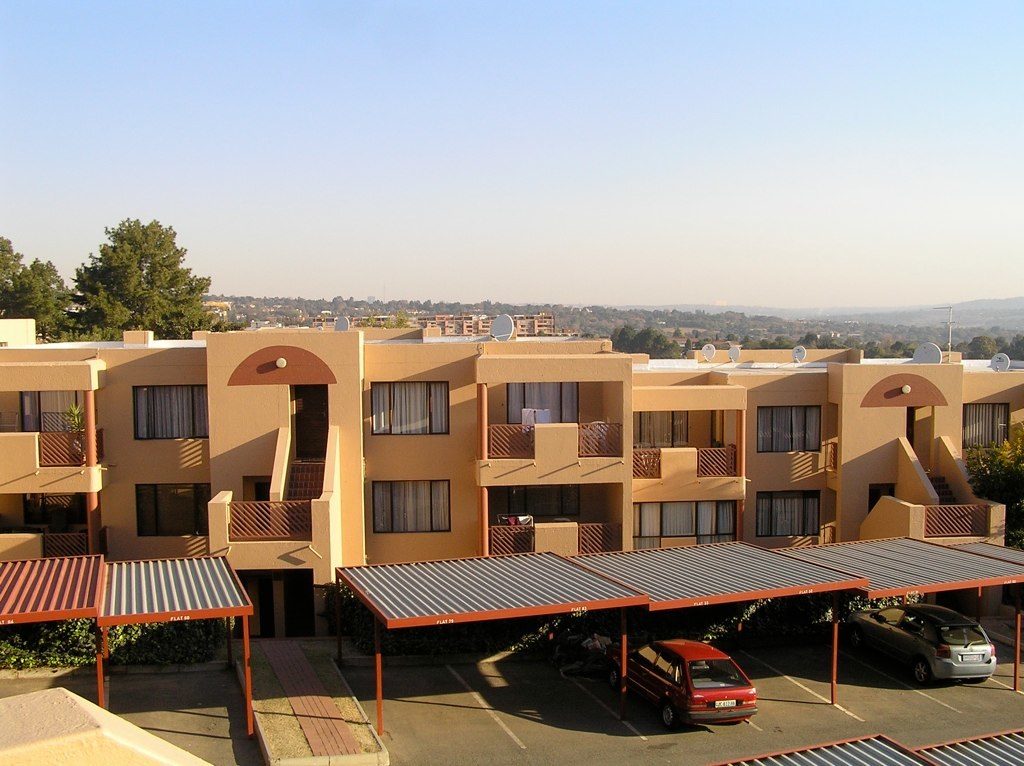Car: (611, 639, 759, 728), (848, 606, 990, 685)
